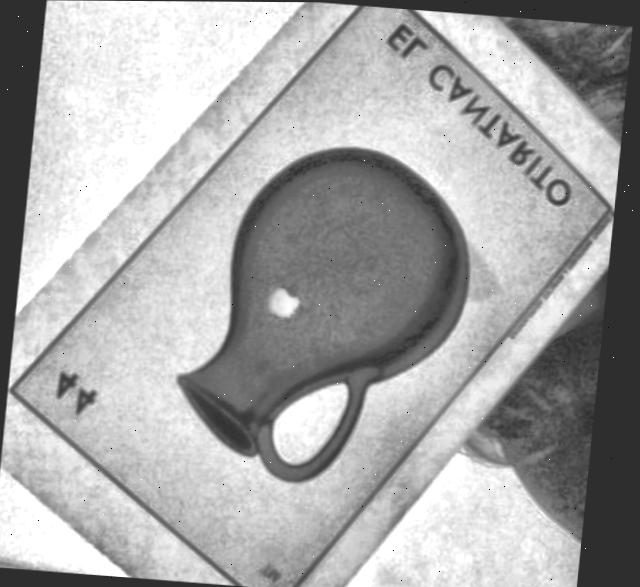El Cantarito: (18, 4, 609, 587)
